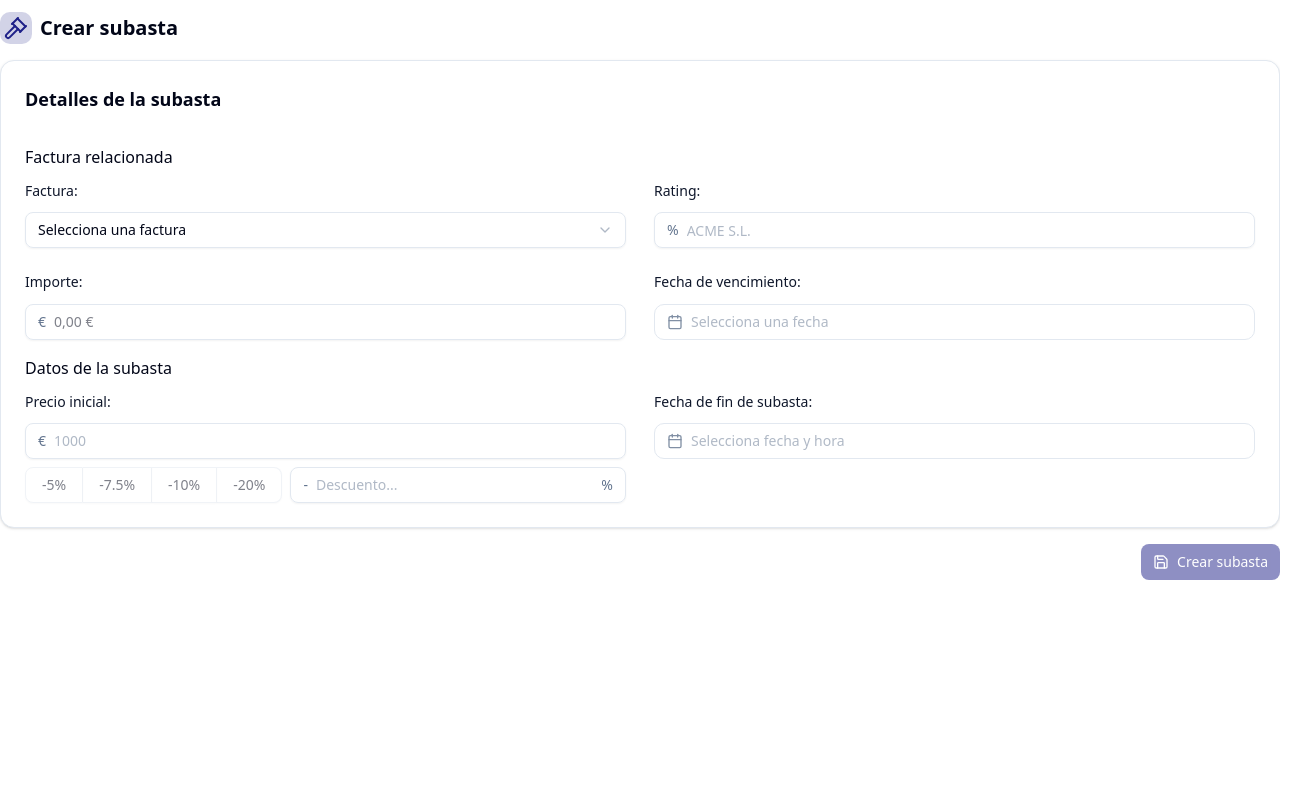
Test: CreateAuctionPage › shows the max allowed price hint after selecting an invoice
The image size is (1292, 812).
Press ArrowDown in the dropdown, box [25,212,626,248]
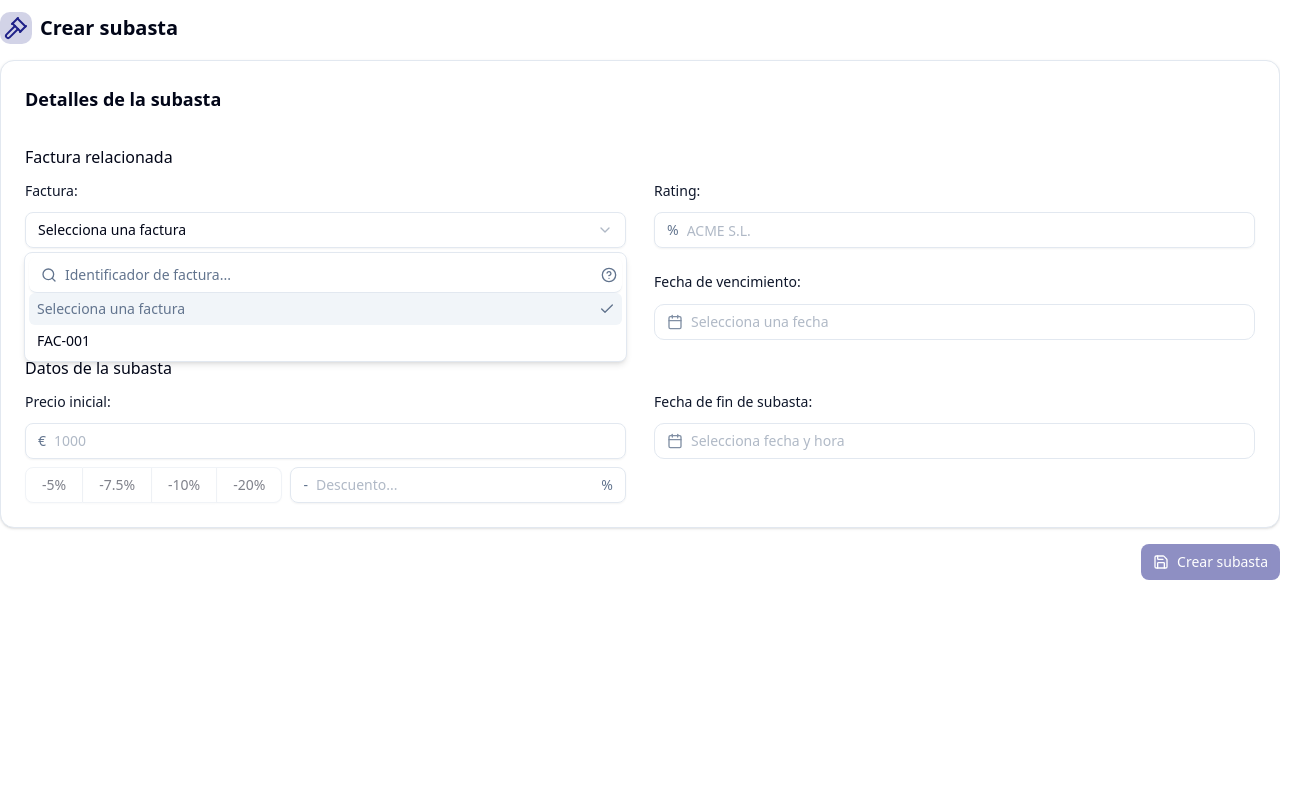
Click the option "FAC-001" at {"x": 64, "y": 340}, box [37,331,90,350]
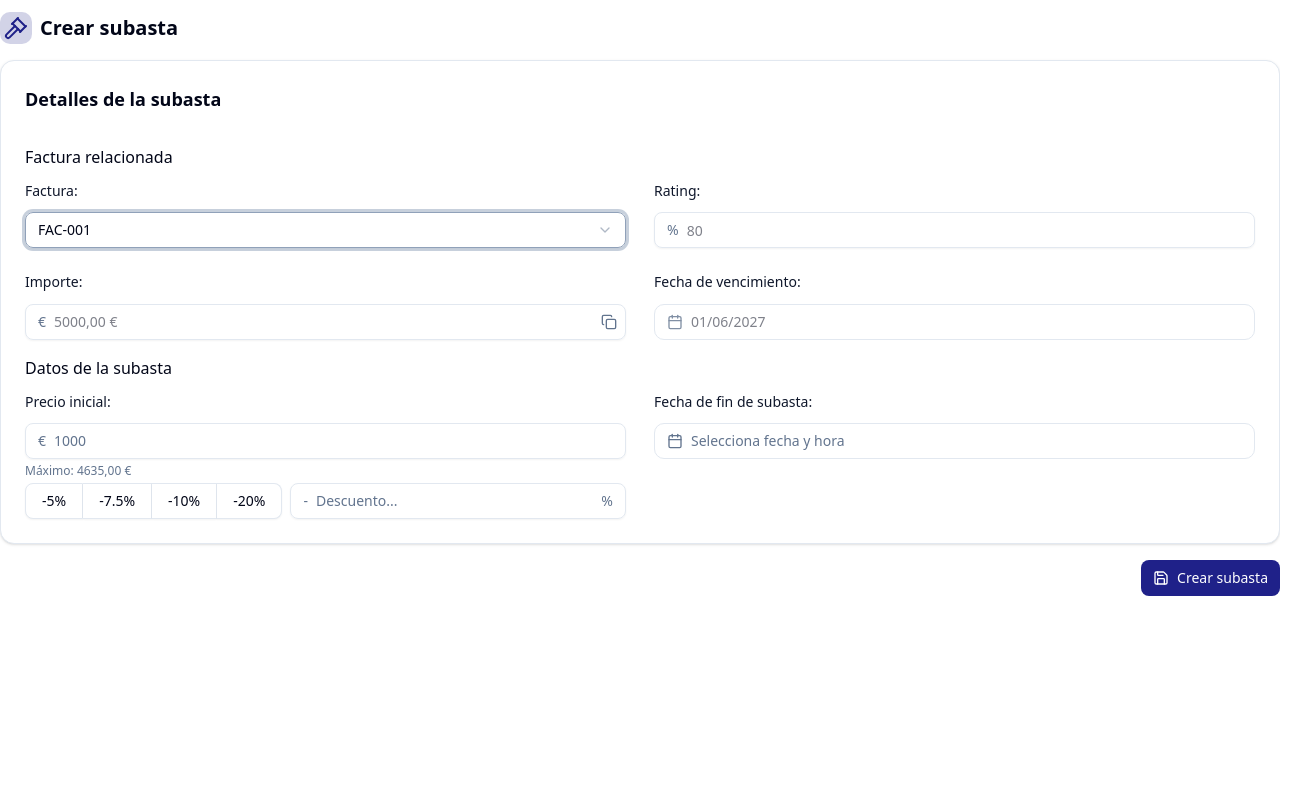
Expected: the text "Máximo: 4635,00 €" is shown, [25,463,131,479]
